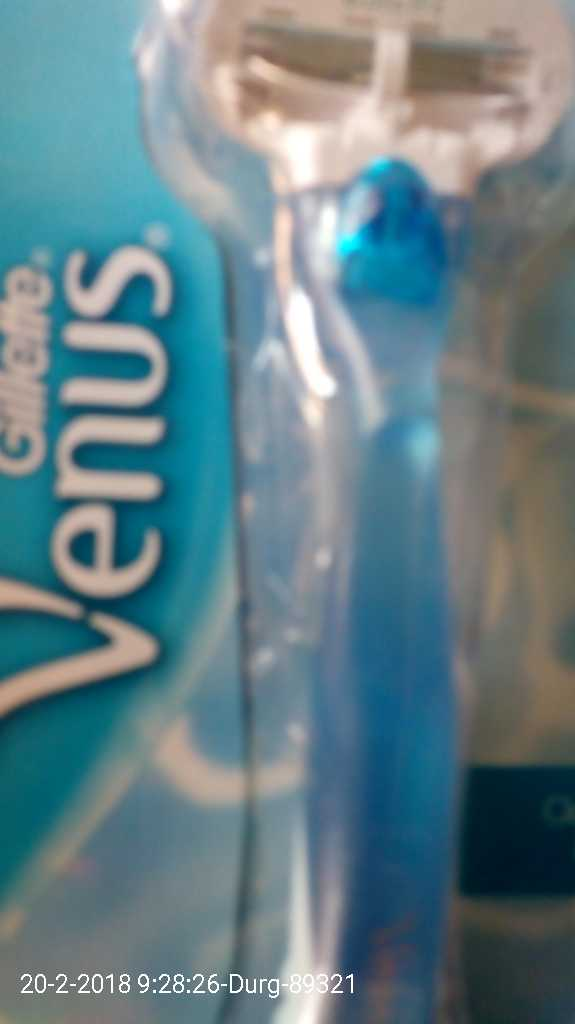reject: (197, 414, 294, 521)
